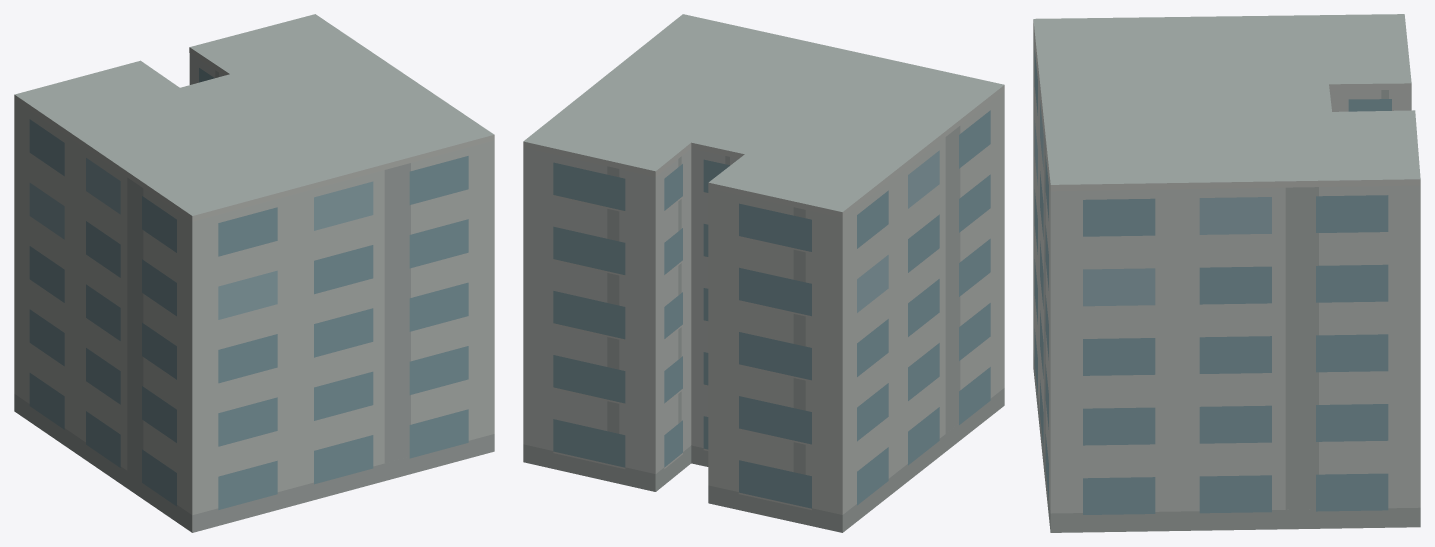
The model's file is survey-upis-32828857.glb.
3 renders of one model, left to right at view 1: azimuth 30°, elevation 25°; view 2: azimuth 150°, elevation 25°; view 3: azimuth 270°, elevation 25°, orthographic. The views are drawn at different scales.
Parts seen in each view (by area): view 1: survey-upis-32828857.tmp; view 2: survey-upis-32828857.tmp; view 3: survey-upis-32828857.tmp.
Part boxes in pixels (x1,y1,x2,y2): survey-upis-32828857.tmp: (14, 14, 494, 532); survey-upis-32828857.tmp: (523, 14, 1004, 532); survey-upis-32828857.tmp: (1033, 14, 1420, 532).
Bounding box in the file's own units: 14.18 × 13.45 × 13.58.
